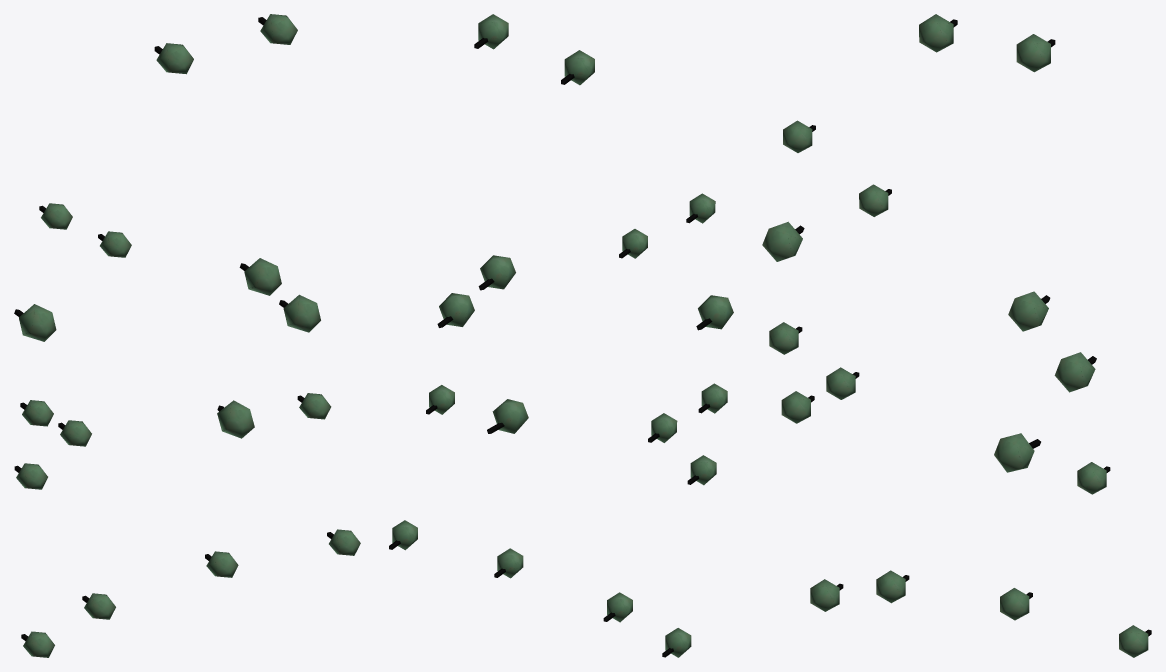
File: apple_trees.glb
3 views of the same model, side by side, from view 1: azimuth 30°, elevation 25°; view 2: azimuth 150°, elevation 25°; view 3: azimuth 330°, elevation 25° (orthographic). The views are drawn at different scales.
Visible parts, largest first — view 1: Cube; view 2: Cube; view 3: Cube.
Boxes of the visible parts, <box> form: Cube: <box>14,14,360,657</box>; Cube: <box>389,14,733,657</box>; Cube: <box>762,14,1151,657</box>.
Bounding box in the file's own units: 118 × 197 × 28.19.
Materials: 1 (1 with a texture image).
